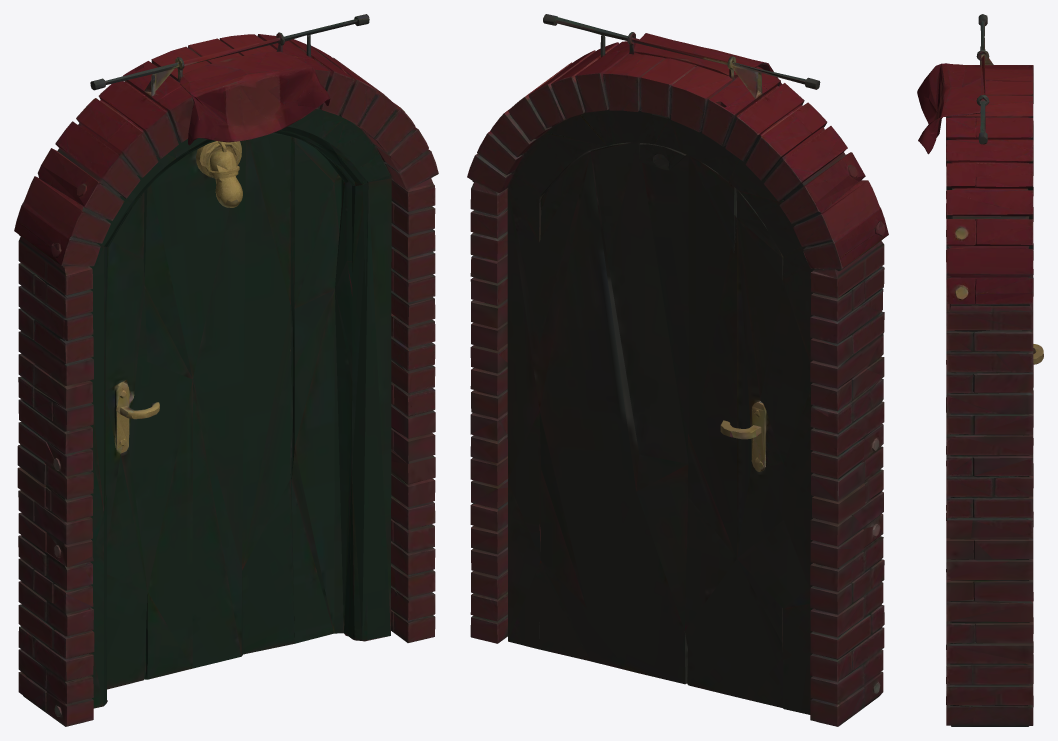
File: door.glb
The picture shows the model from 3 angles, left to right: view 1: azimuth 30°, elevation 25°; view 2: azimuth 150°, elevation 25°; view 3: azimuth 270°, elevation 25°; orthographic projection. The views are drawn at different scales.
Bounding box in the file's own units: 1.2 × 1.9 × 0.3802.
1 material, 1 textured.
